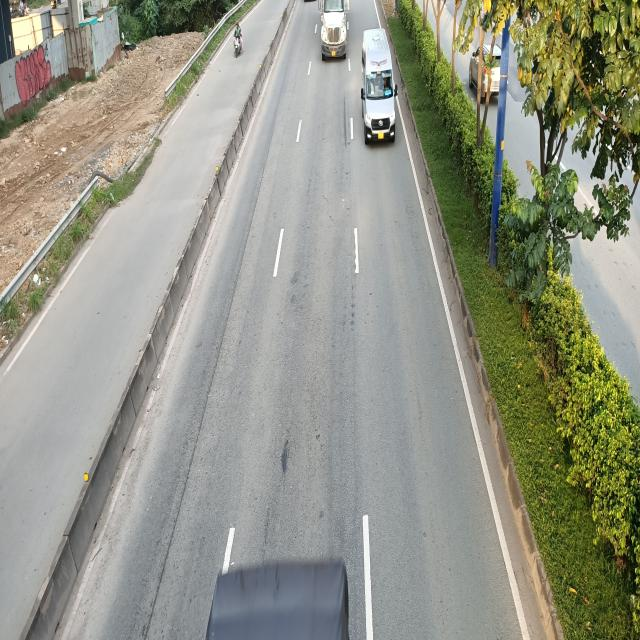container: (320, 0, 351, 58)
van: (360, 28, 398, 144)
